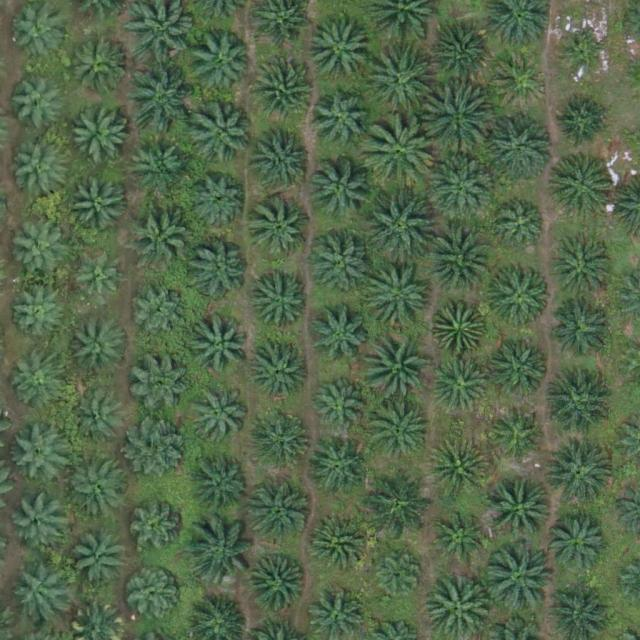Healthy: (365, 191, 436, 262), (484, 547, 555, 617), (188, 519, 258, 590), (366, 467, 437, 537), (366, 397, 436, 468), (366, 264, 437, 334), (363, 47, 433, 118), (421, 85, 491, 156), (429, 152, 499, 223), (488, 475, 558, 546), (485, 111, 555, 182), (542, 439, 612, 510), (124, 64, 194, 134), (362, 329, 432, 399), (364, 118, 434, 188), (424, 224, 494, 294), (542, 368, 612, 438), (305, 513, 368, 576), (67, 176, 130, 239), (129, 352, 192, 415), (192, 314, 255, 377), (190, 454, 253, 517), (249, 481, 312, 544), (250, 58, 313, 121), (427, 438, 490, 501), (489, 340, 552, 403), (552, 240, 615, 303), (547, 516, 609, 579), (247, 555, 310, 617), (8, 217, 70, 280), (9, 420, 71, 483), (67, 456, 129, 519), (69, 101, 131, 164), (66, 33, 128, 96), (128, 134, 190, 197), (130, 203, 192, 266), (128, 417, 190, 480), (189, 30, 251, 93), (192, 104, 254, 167), (188, 386, 250, 449), (249, 341, 311, 404), (250, 270, 313, 332), (250, 198, 312, 261), (307, 21, 370, 83), (311, 89, 373, 152), (310, 158, 372, 221), (309, 232, 372, 294), (307, 306, 369, 369), (309, 438, 371, 501), (489, 263, 551, 326), (550, 154, 613, 216), (551, 297, 613, 360), (186, 240, 248, 302), (254, 410, 316, 472), (255, 127, 317, 189), (430, 24, 492, 86), (373, 549, 428, 604), (129, 504, 184, 559), (127, 572, 182, 627), (70, 533, 125, 588), (10, 495, 65, 550), (11, 568, 66, 623), (493, 54, 548, 109), (11, 77, 66, 132), (11, 144, 66, 199), (9, 289, 64, 344), (8, 356, 63, 411), (73, 317, 128, 372), (69, 250, 124, 305), (133, 286, 188, 341), (434, 356, 489, 411), (432, 513, 487, 568), (493, 403, 548, 458), (555, 94, 610, 149), (70, 393, 124, 448), (192, 174, 246, 229), (313, 377, 367, 432), (433, 299, 487, 354), (496, 200, 550, 255), (7, 8, 61, 63)
Small: (562, 35, 609, 82)
